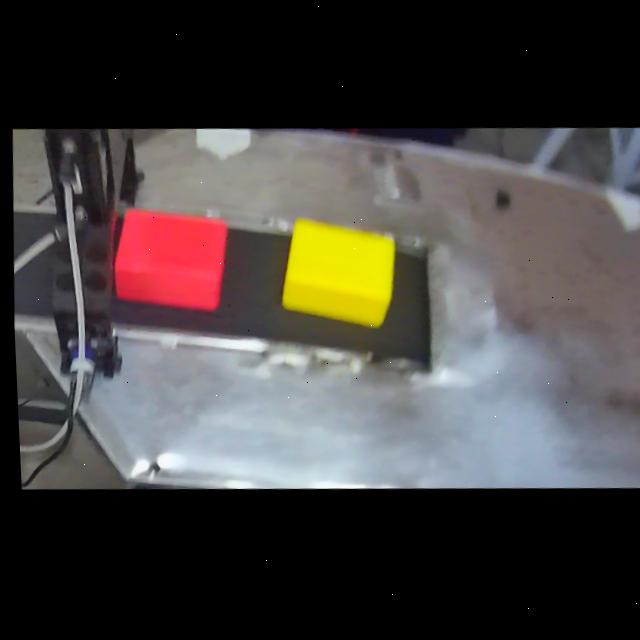redBox: (104, 194, 232, 320)
yellowBox: (275, 209, 404, 337)
